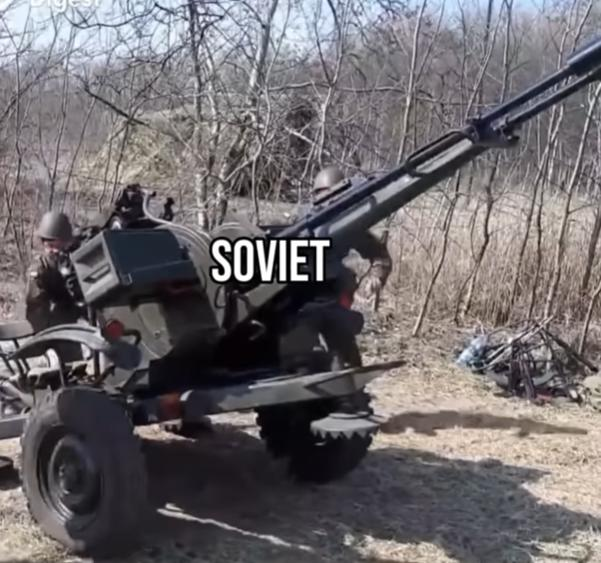MIL_SPG: (0, 38, 601, 551)
